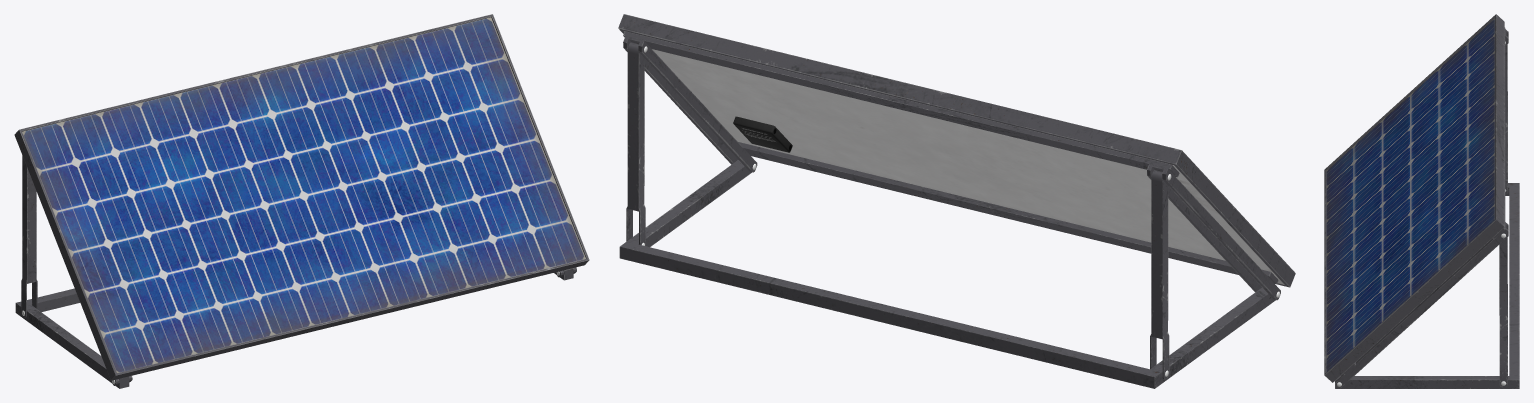
File: solar-panel.glb
3 views of the same model, side by side, from view 1: azimuth 30°, elevation 25°; view 2: azimuth 150°, elevation 25°; view 3: azimuth 270°, elevation 25° (orthographic). The views are drawn at different scales.
Parts seen in each view (by area): view 1: SolarPanel_SolarPanel_0; view 2: SolarPanel_SolarPanel_0; view 3: SolarPanel_SolarPanel_0.
Part boxes in pixels (x1,y1,x2,y2): SolarPanel_SolarPanel_0: [14, 14, 589, 388]; SolarPanel_SolarPanel_0: [618, 14, 1295, 388]; SolarPanel_SolarPanel_0: [1324, 14, 1519, 388].
Bounding box in the file's own units: 165 × 65.13 × 66.43.
1 material, 1 textured.
